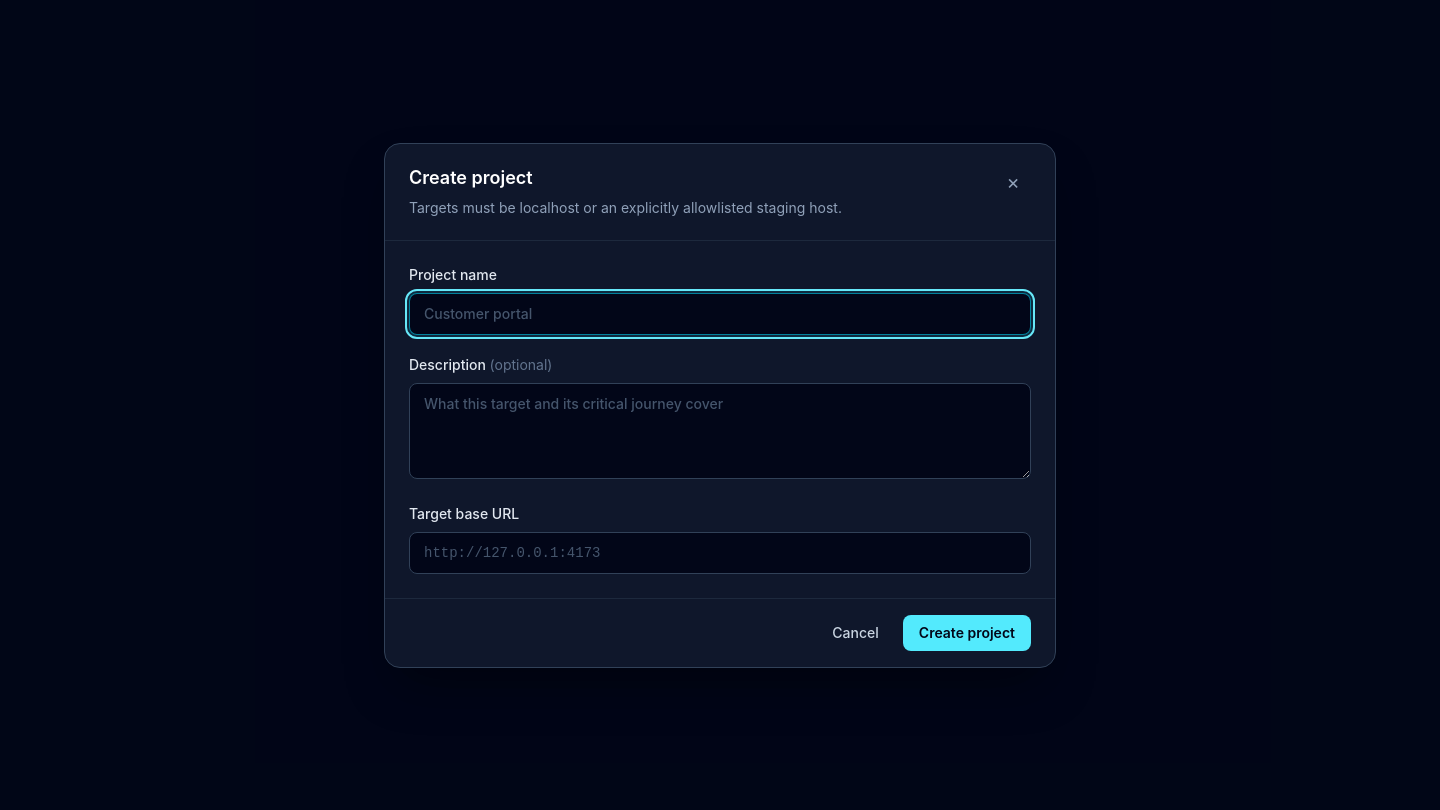
Test: project form › blocks submission and renders useful field errors
Click the button "Create project": (967, 632) [903,614,1031,650]
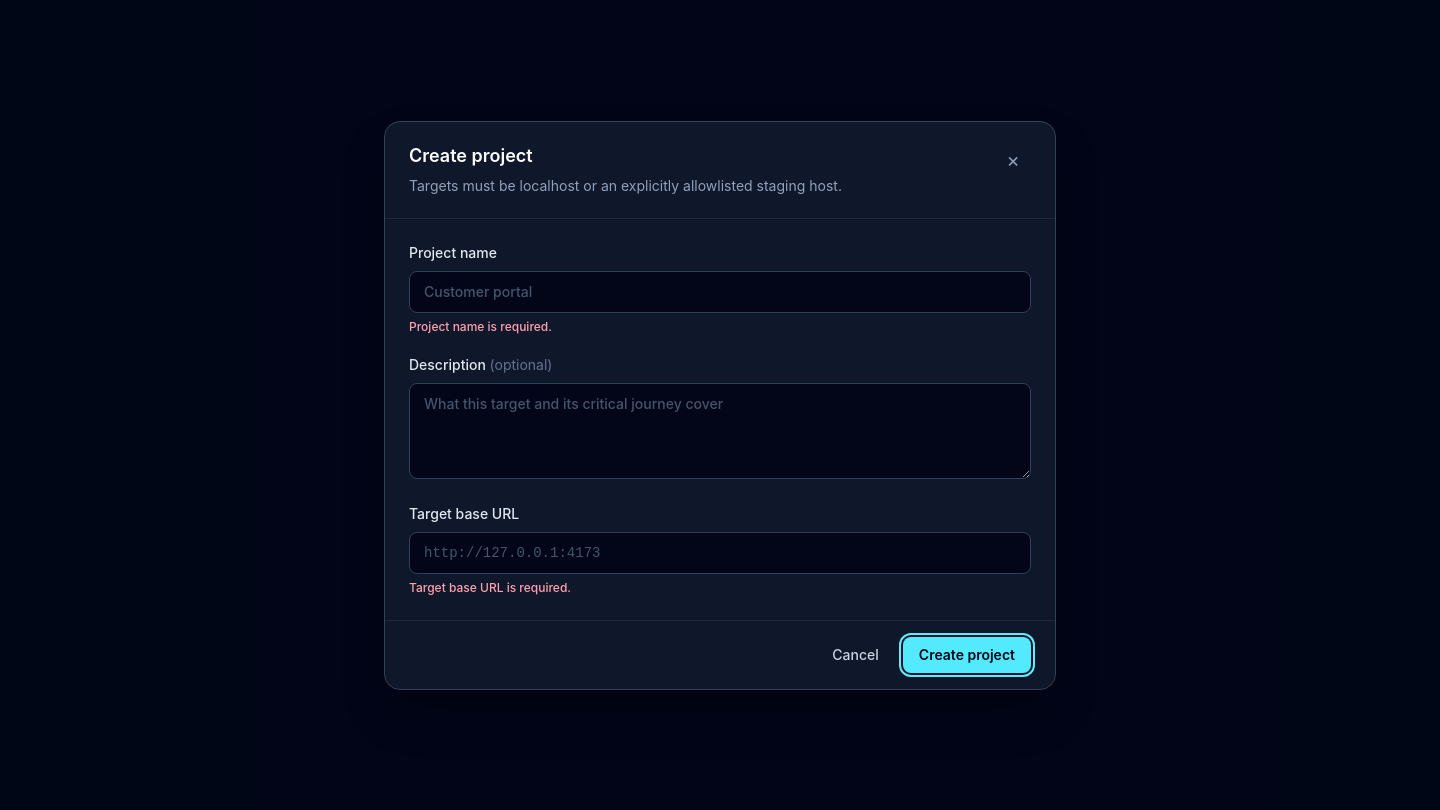
Now the text "Project name is required." is shown, box [409,318,552,334]
Now the text "Target base URL is required." is shown, box [409,580,571,594]
